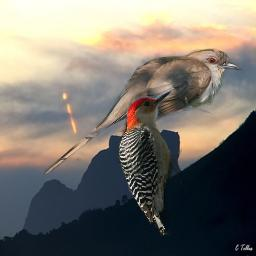Cuckoo: (44, 48, 242, 176)
Woodpecker: (117, 90, 182, 236)
